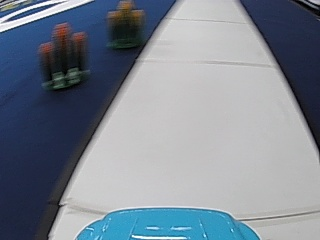corn: (38, 20, 86, 94), (106, 0, 143, 49)
